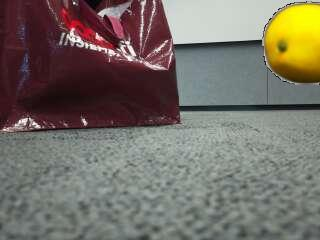lemon: (264, 4, 320, 83)
